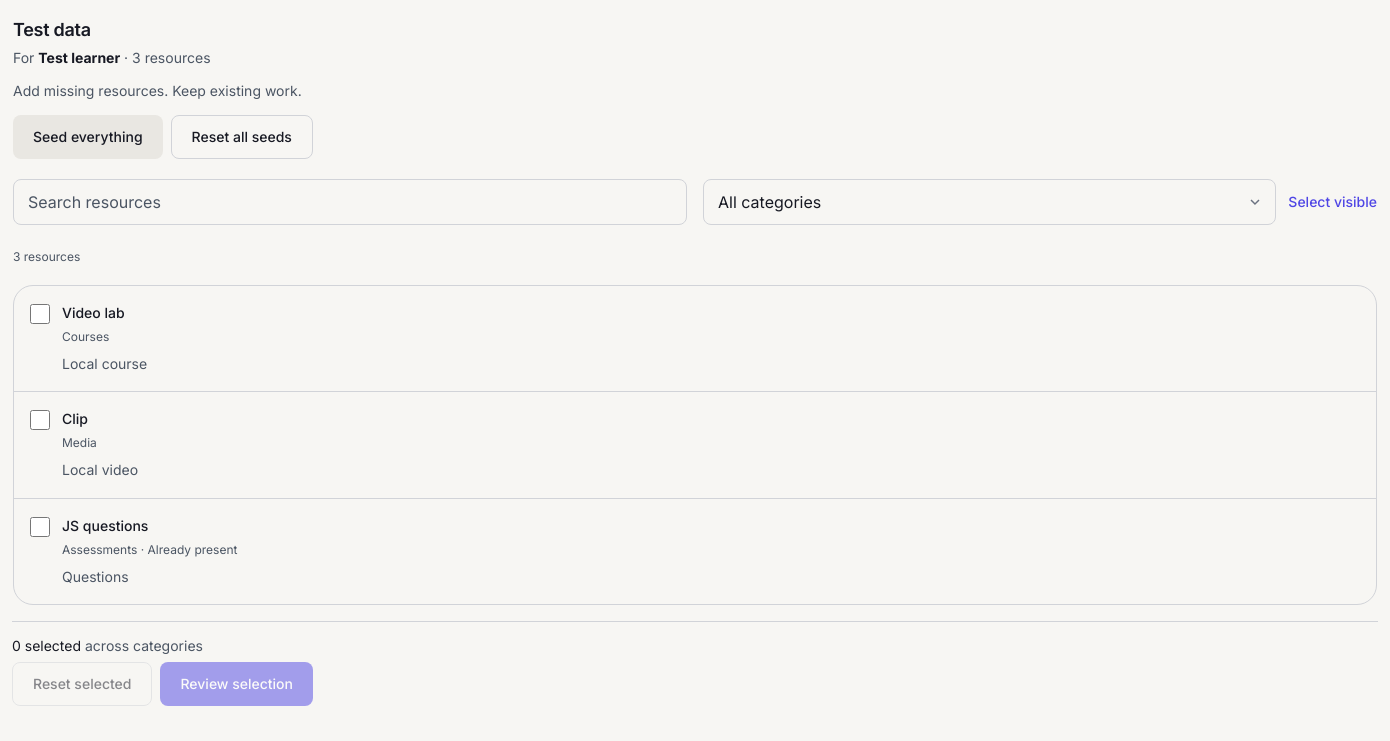
Test case: Developer seed picker › requires a fresh review if data changes before reset
Click the button "Reset all seeds".
click(242, 137)  # box [171,115,313,159]
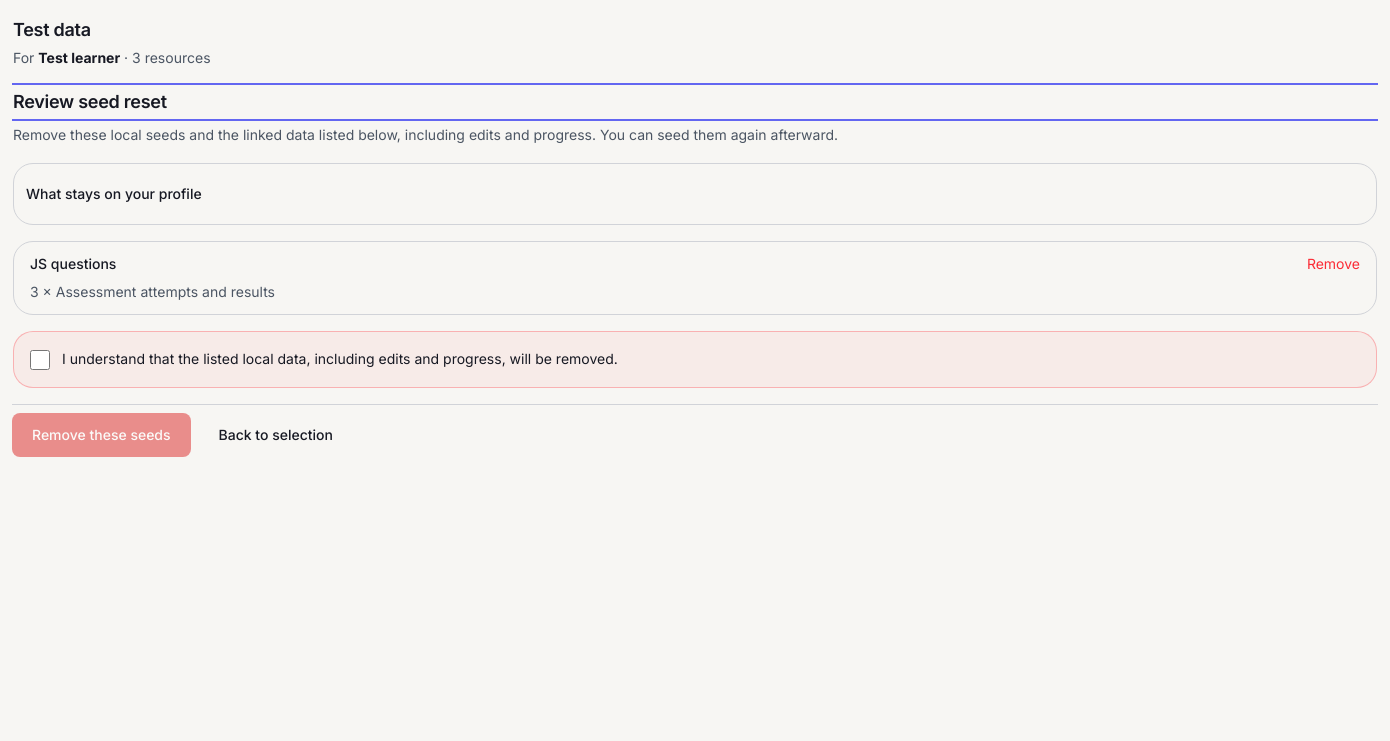
Click the checkbox.
click(40, 360)  # box [30,350,50,370]
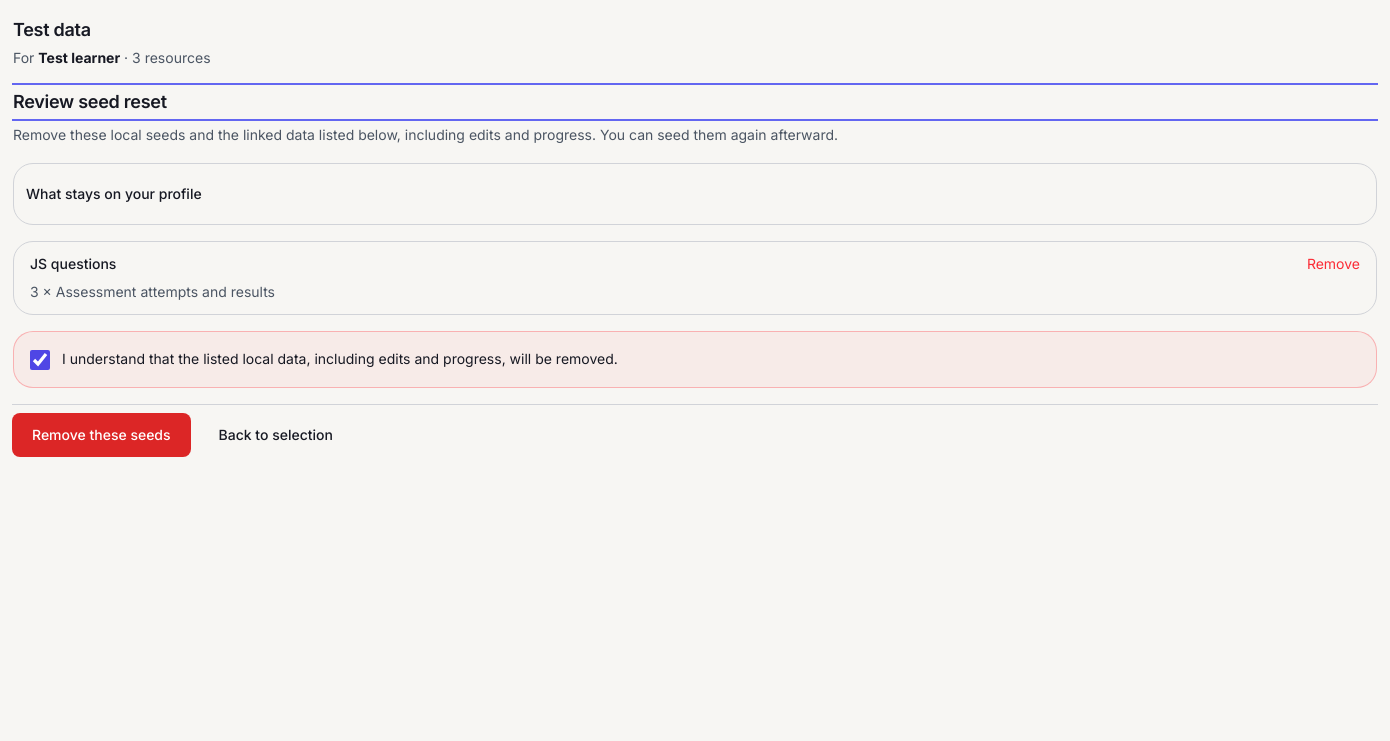
Click the button "Remove these seeds".
click(101, 434)  # box [12,412,191,456]
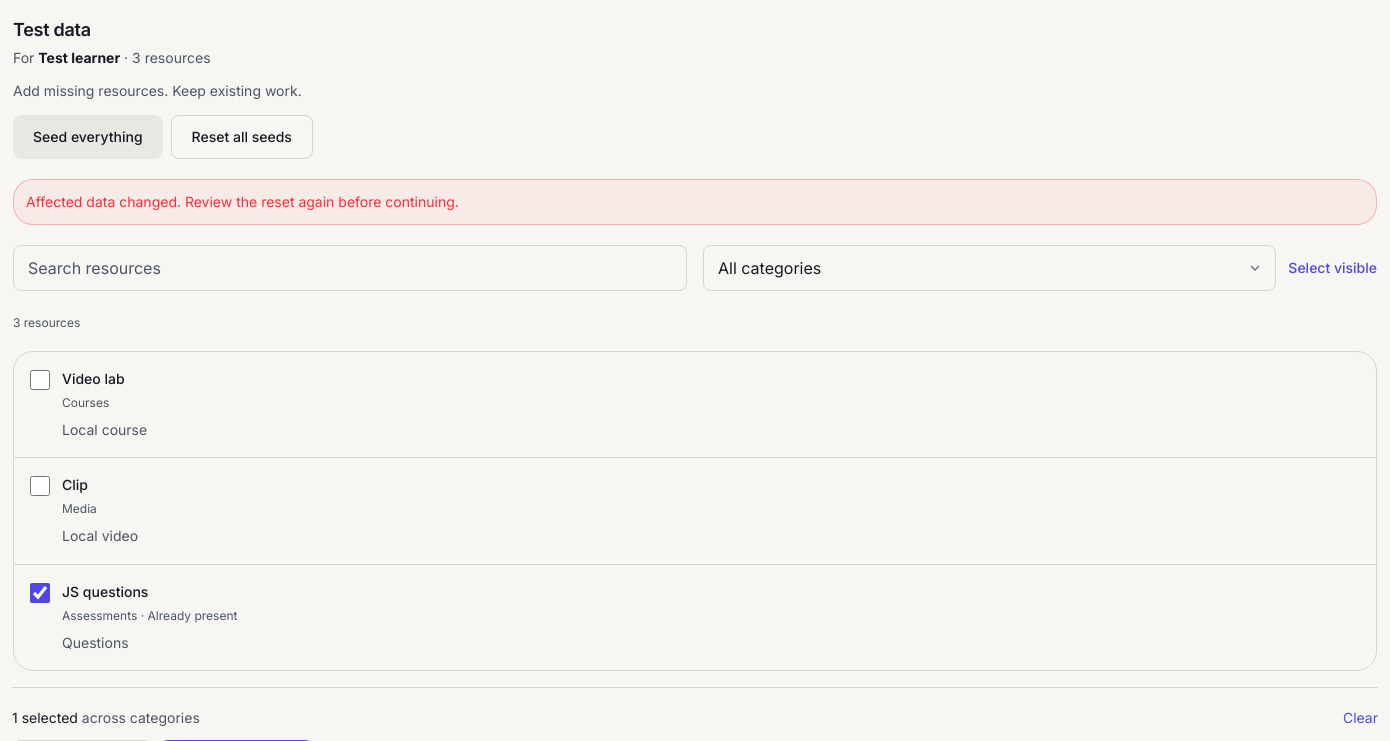
Result: the text "Affected data changed" is shown at [26,193,459,210]
